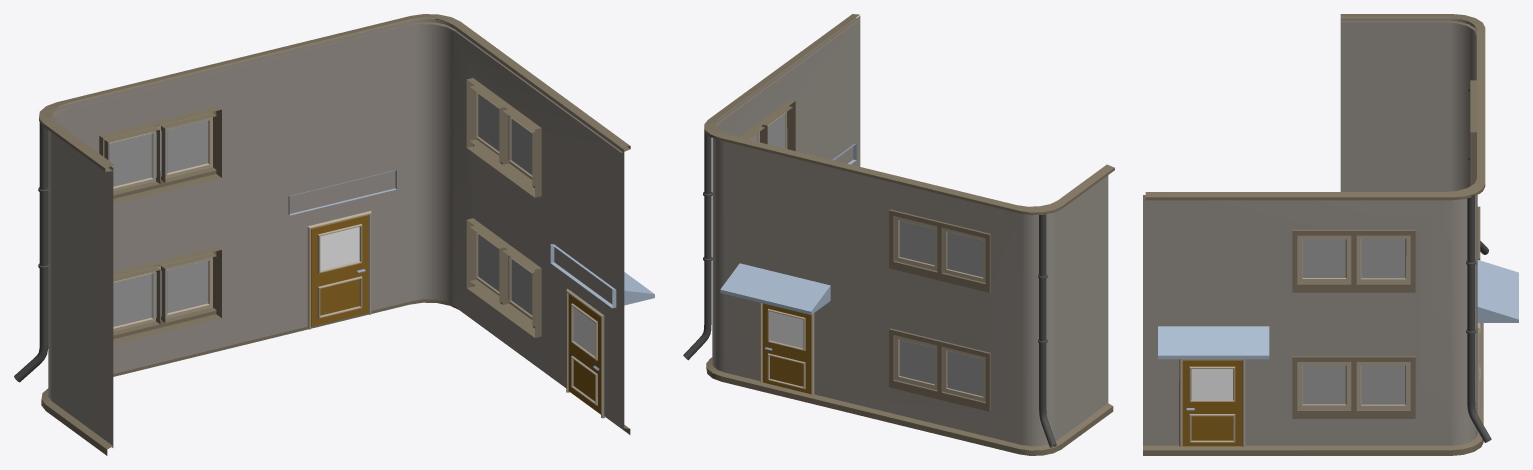
File: house.fbx
The picture shows the model from 3 angles, left to right: view 1: azimuth 30°, elevation 25°; view 2: azimuth 150°, elevation 25°; view 3: azimuth 270°, elevation 25°; orthographic projection. The views are drawn at different scales.
Parts seen in each view (by area): view 1: house; view 2: house; view 3: house.
Part boxes in pixels (<box>): house: <box>14,14,654,455</box>; house: <box>683,14,1114,455</box>; house: <box>1143,14,1518,455</box>.
Bounding box in the file's own units: 1079 × 650 × 849.
